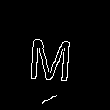M_N: (31, 27, 79, 83)
